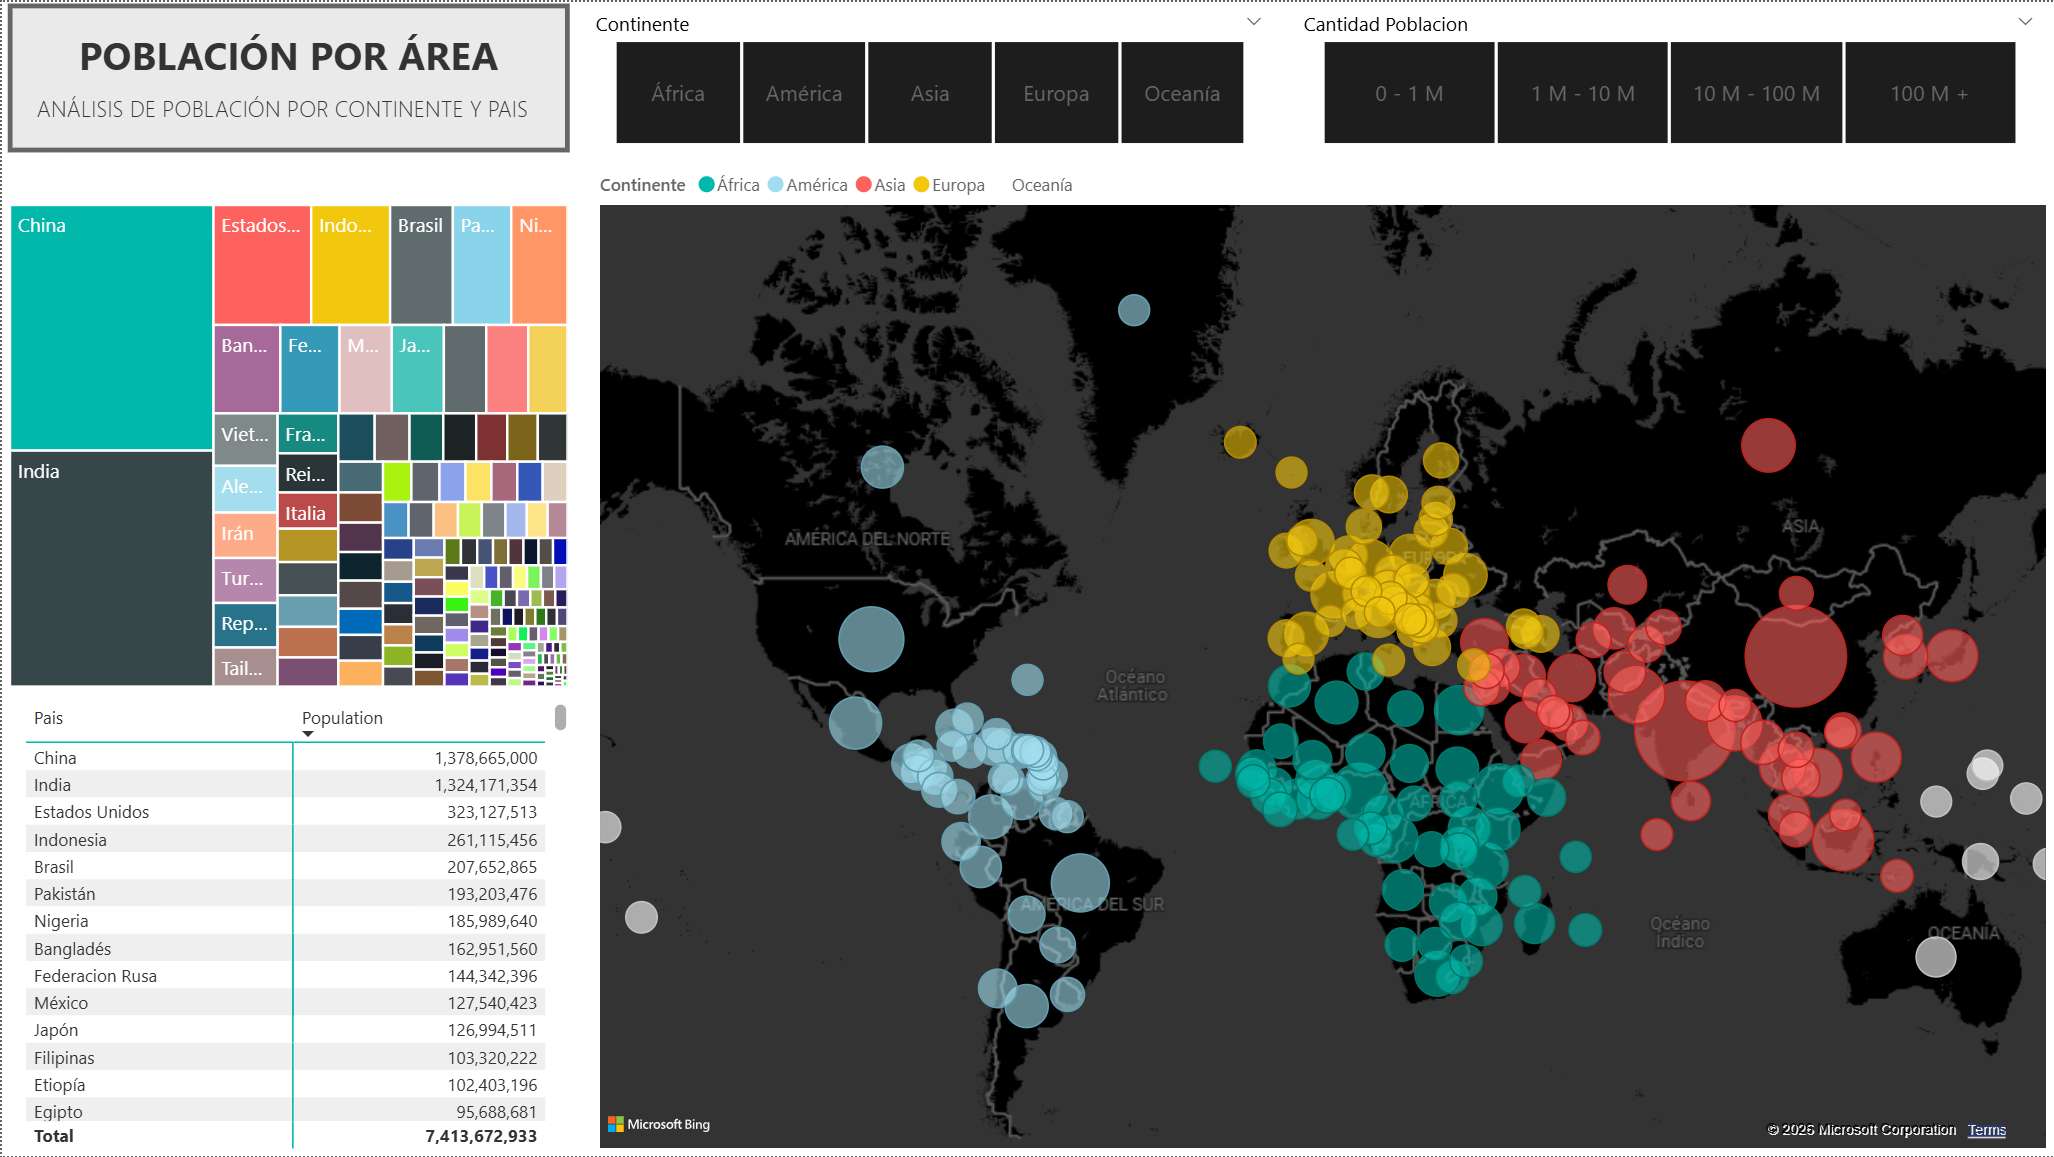

Layout of this report page (visuals, bound fields, positions):
{"tool":"powerbi","page":{"name":"Poblacion por area","canvas":[1280,720],"ordinal":0},"visuals":[{"type":"pivotTable","fields":{"Rows":["Paises.Continente","Paises.Pais"],"Values":["Sum(Population.Population)"]},"box":[10.2,432.3,347.7,287.8],"z":0},{"type":"slicer","fields":{"Values":["Population.Cantidad Poblacion"]},"box":[799.2,0,480.8,94.8],"z":1000},{"type":"slicer","fields":{"Values":["Paises.Continente"]},"box":[357.8,0,441.3,94.8],"z":2000},{"type":"treemap","fields":{"Group":["Paises.Pais"],"Values":["Sum(Population.Population)"]},"box":[0,121.9,357.8,310.4],"z":3000},{"type":"map","fields":{"Category":["Paises.Pais"],"Size":["Sum(Population.Population)"],"Series":["Paises.Continente"]},"box":[368,94.8,912,625.3],"z":4000},{"type":"basicShape","box":[0,0,357.8,94.8],"z":5000},{"type":"textbox","box":[0,11.3,357.8,55.3],"z":6000},{"type":"textbox","box":[0,51.9,349.9,50.8],"z":7000}]}

Visuals, with their boxes in screenshot pixels (x1, y1, x2, y2), scaled from the page's 1280x720 canvas onto the 2054x1157 screenshot:
pivotTable - Paises.Continente x Paises.Pais: box(16, 695, 574, 1156)
slicer - Population.Cantidad Poblacion: box(1282, 0, 2053, 152)
slicer - Paises.Continente: box(574, 0, 1282, 152)
treemap - Paises.Pais x Sum(Population.Population): box(0, 196, 574, 695)
map - Paises.Pais x Sum(Population.Population): box(591, 152, 2053, 1156)
basicShape: box(0, 0, 574, 152)
textbox: box(0, 18, 574, 107)
textbox: box(0, 83, 561, 165)
